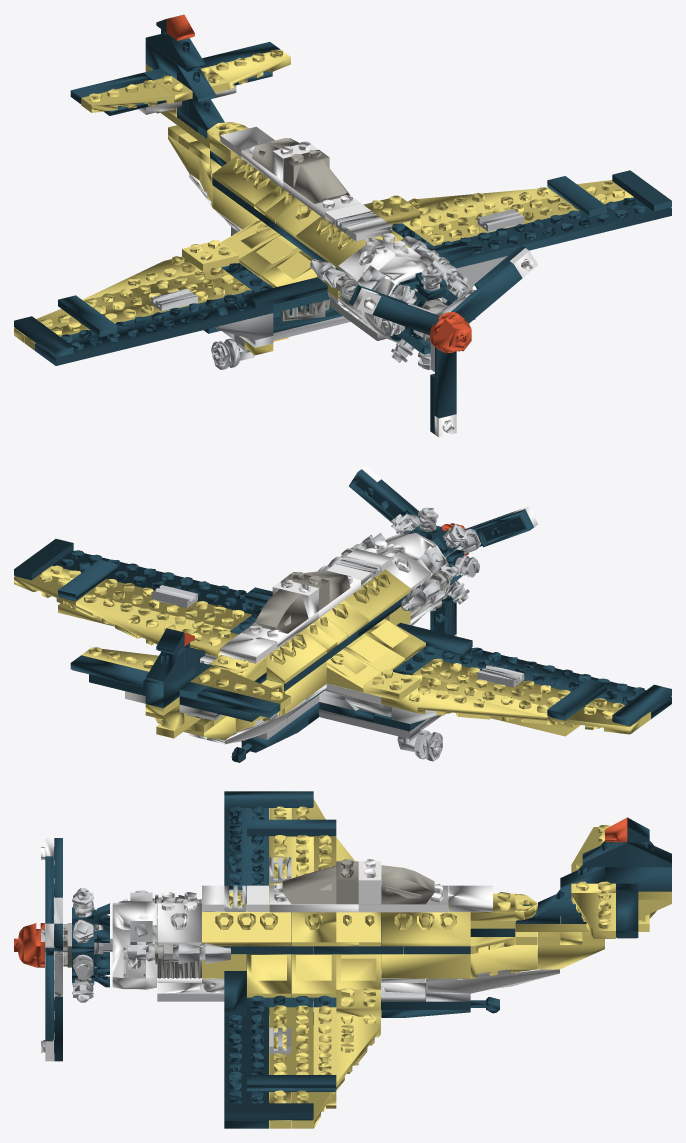
File: goal.glb
3 views of the same model, one above another, from view 1: azimuth 30°, elevation 25°; view 2: azimuth 150°, elevation 25°; view 3: azimuth 270°, elevation 25° (orthographic). The views are drawn at different scales.
Visible parts, largest first — view 1: LEGO.Creator_Plane2; view 2: LEGO.Creator_Plane2; view 3: LEGO.Creator_Plane2.
Part boxes in pixels (<box>): LEGO.Creator_Plane2: <box>14,14,671,437</box>; LEGO.Creator_Plane2: <box>14,466,671,762</box>; LEGO.Creator_Plane2: <box>14,791,671,1128</box>.
Size of the model in its own units: 33.99 by 11.57 by 29.39.
